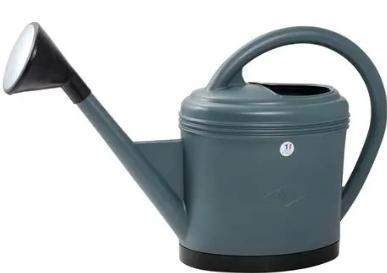ARROSOIR: (3, 0, 387, 273)
